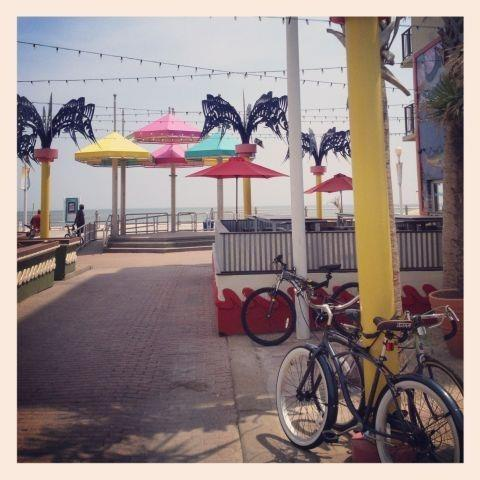non-vehicle: (274, 277, 463, 462), (309, 304, 463, 462), (240, 254, 361, 346), (64, 224, 83, 246), (23, 224, 40, 239)
